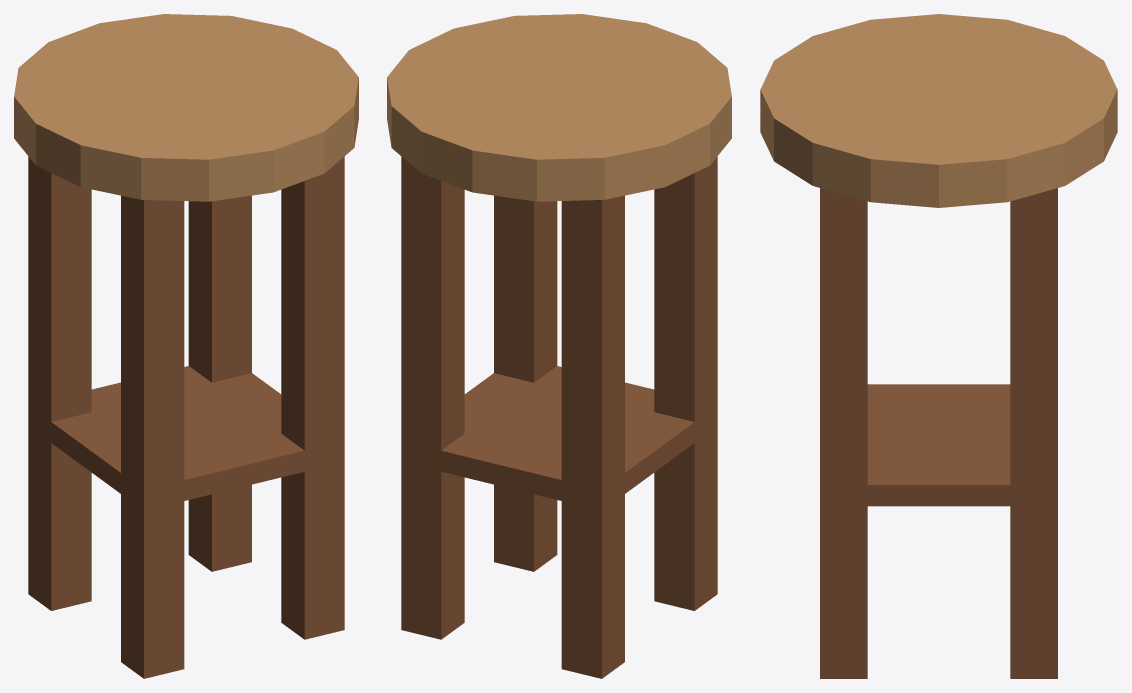
File: stool.glb
3 renders of one model, left to right at view 1: azimuth 30°, elevation 25°; view 2: azimuth 150°, elevation 25°; view 3: azimuth 270°, elevation 25°, orthographic. The views are drawn at different scales.
Parts seen in each view (by area): view 1: stool_Body; view 2: stool_Body; view 3: stool_Body.
Part boxes in pixels (x1,y1,x2,y2): stool_Body: (14,14,358,678); stool_Body: (387,14,731,678); stool_Body: (760,14,1117,678).
Bounding box in the file's own units: 0.3 × 0.5 × 0.3.
